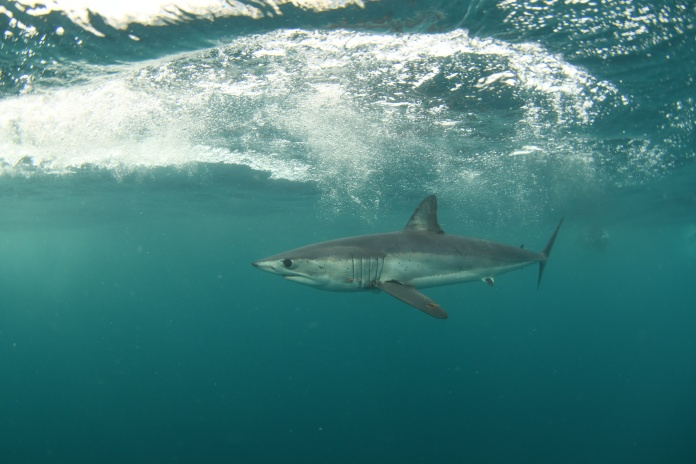Mako: (240, 186, 570, 323)
